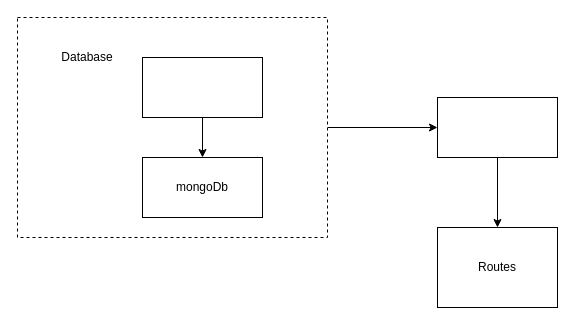
Some shapes in this 575 by 325 pixel diagram are drawn without their labels. The shapes that lost their labels are listed below. From the top down, each one's centre as x and y in pixels, then its label:
At (202,87): "Sequelize".
At (497,127): "controller".
